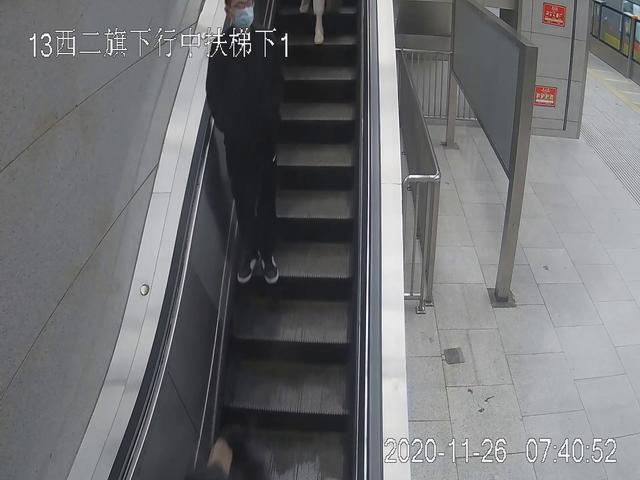person: (206, 2, 285, 283)
